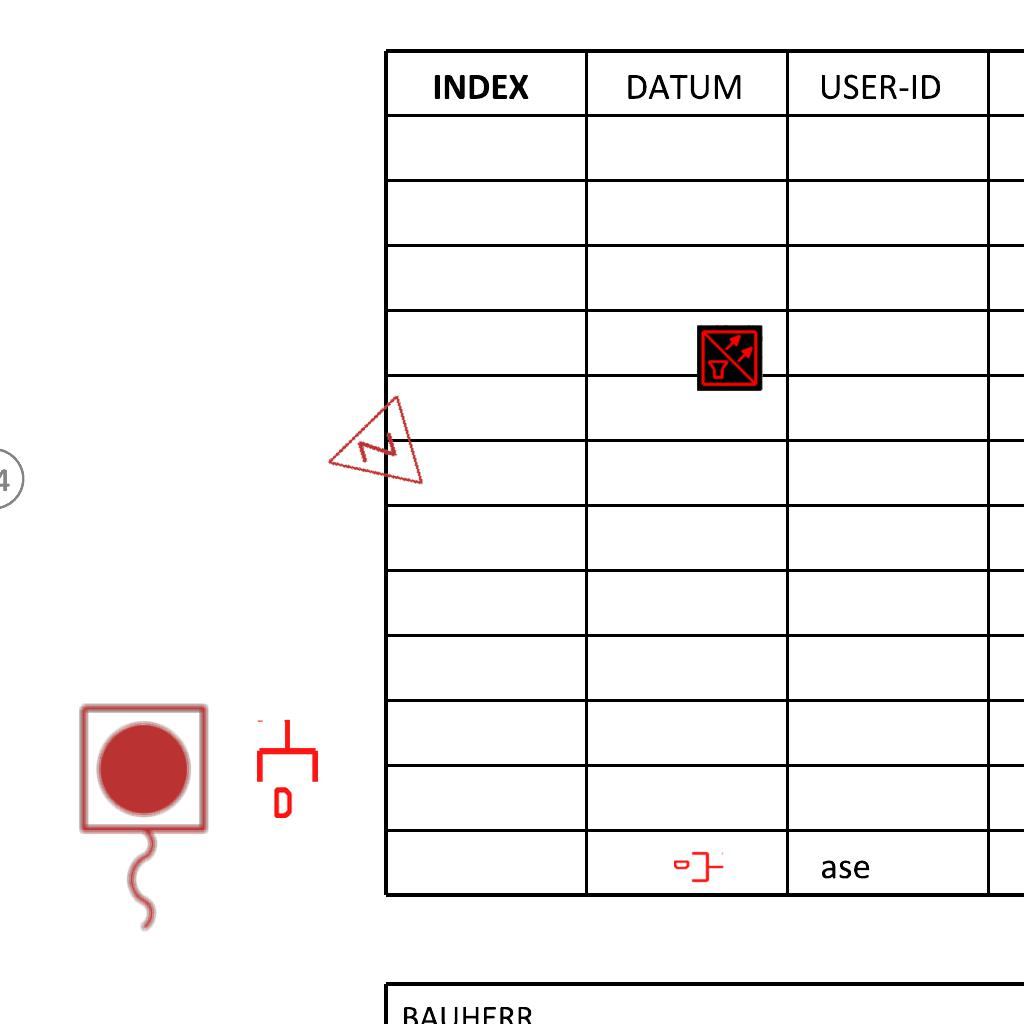Datenanschluss_einfach: (253, 718, 322, 818), (674, 850, 724, 884)
OKW_Multisensormelder_(Kombination_optischer_Rauch-Kahlenmonoxid_Waerme-Melder): (697, 325, 763, 391)
Zimmersignalleuchte: (308, 391, 432, 513)
Zugtaster: (70, 697, 214, 941)
